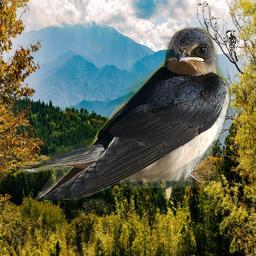Swallow: (15, 27, 231, 200)
Woodpecker: (225, 30, 240, 62)
